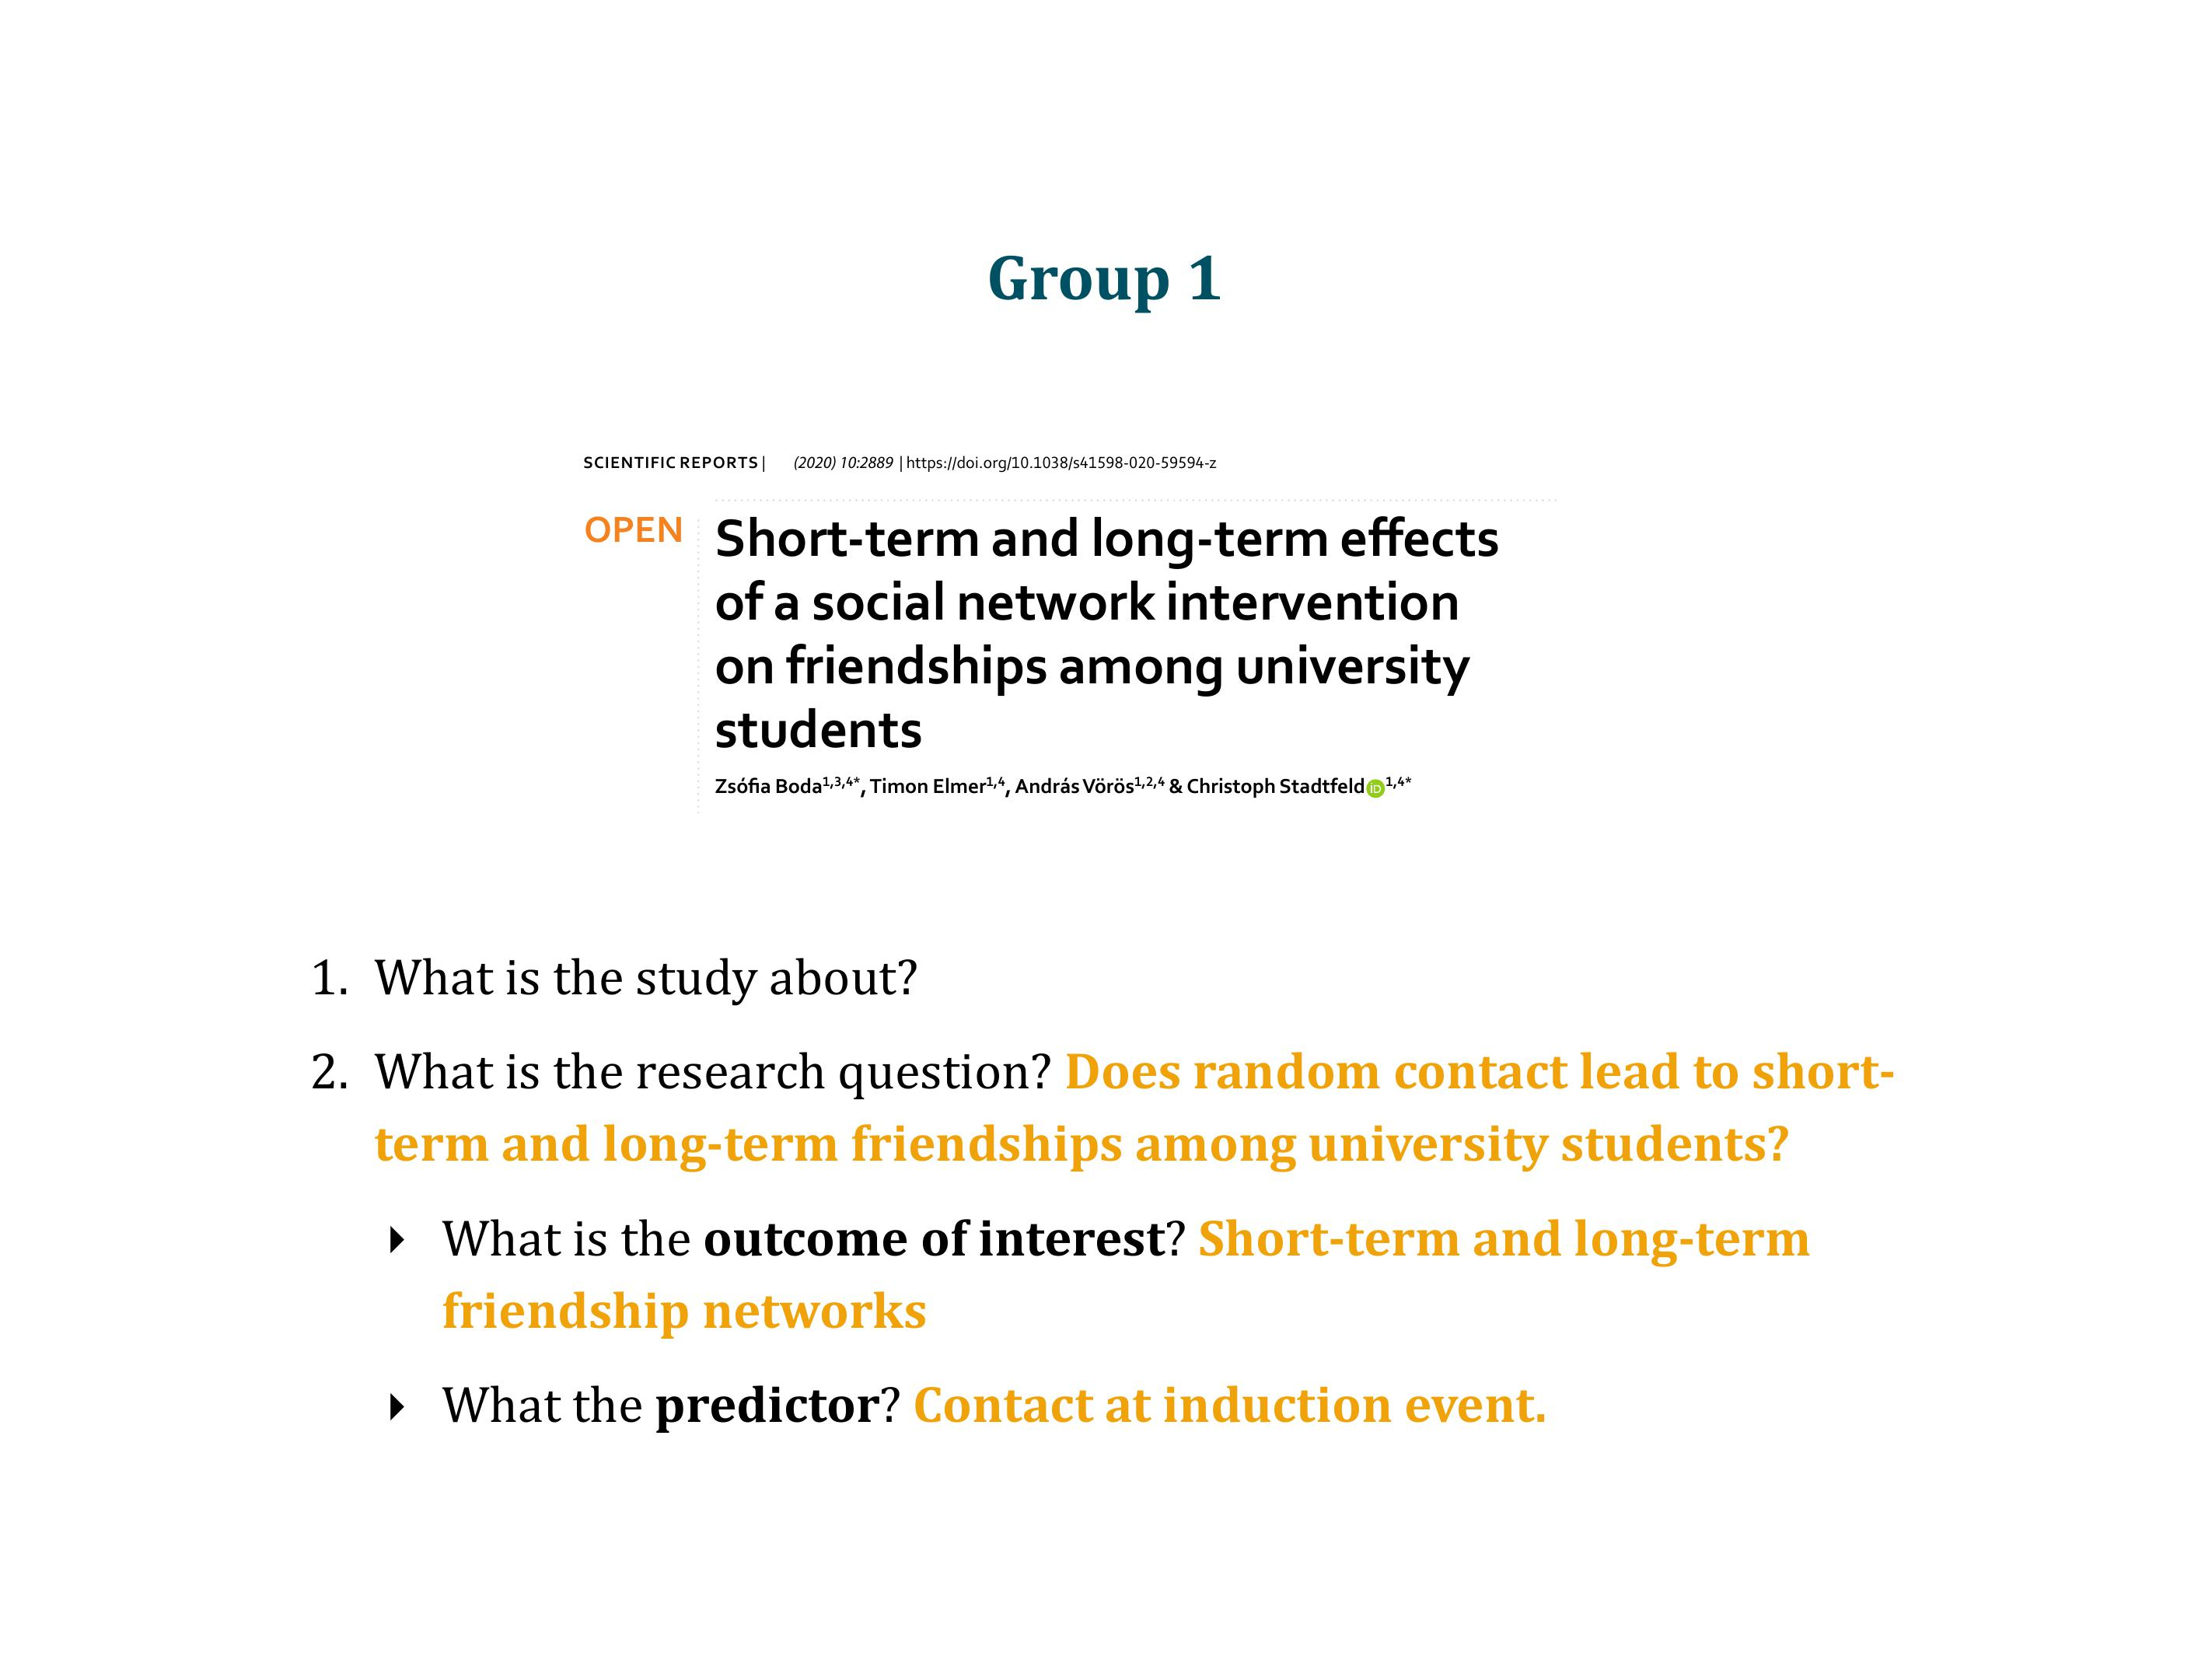Title: (929, 237, 1276, 317)
